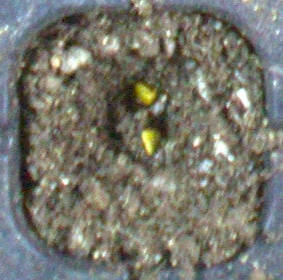pepper seed: (58, 48, 222, 203), (53, 27, 211, 134)
